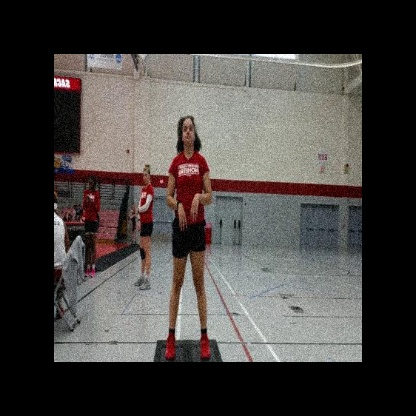lateral_flexion_normal: (162, 112, 215, 361)
stance_width_broad: (164, 144, 215, 362)
